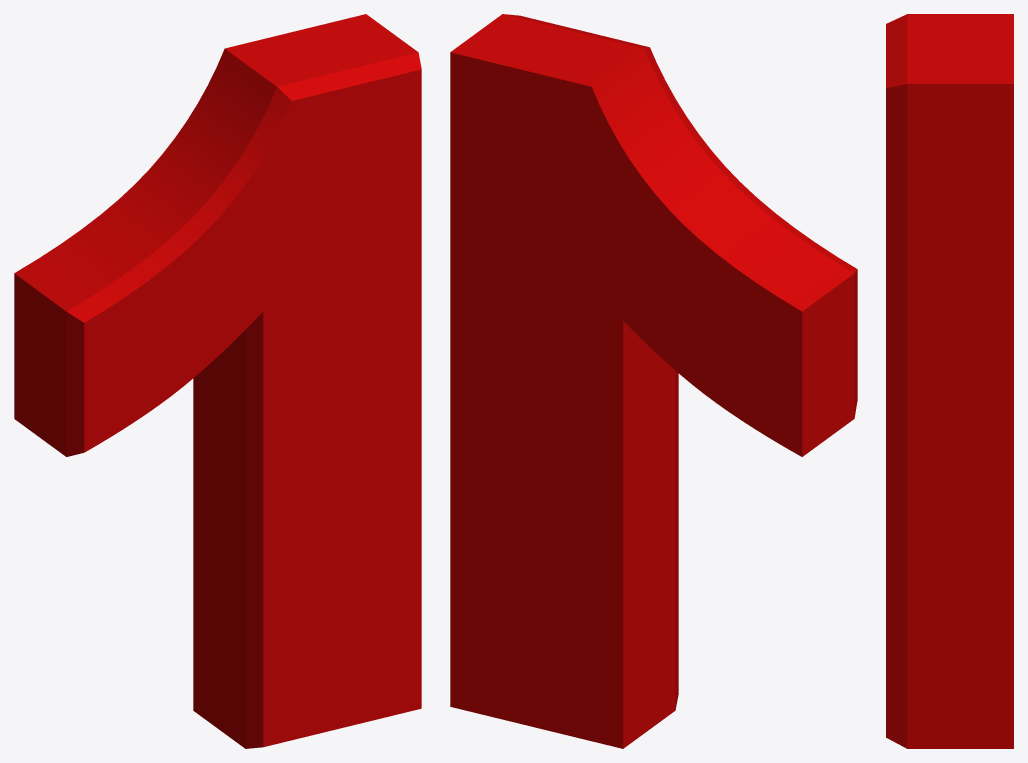
The model's file is number1.FBX.
3 views of the same model, side by side, from view 1: azimuth 30°, elevation 25°; view 2: azimuth 150°, elevation 25°; view 3: azimuth 270°, elevation 25° (orthographic).
Parts seen in each view (by area): view 1: 1; view 2: 1; view 3: 1.
Part boxes in pixels (box(x1,y1,x2,y2)): 1: box(14, 14, 421, 748); 1: box(450, 14, 857, 748); 1: box(886, 14, 1013, 748).
Size of the model in its own units: 1.15 by 0.3543 by 2.04.
